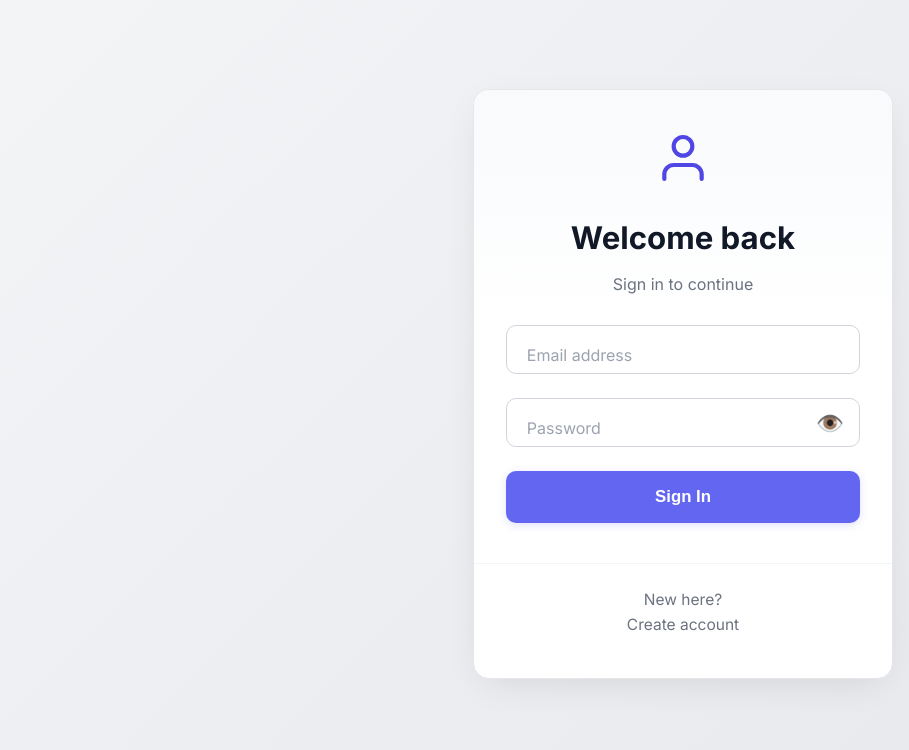
Scenario: Login Component › displays error on login failure
Type "test@example.com" into the field labelled "Email address" at (683, 350), box [506,326,860,374]
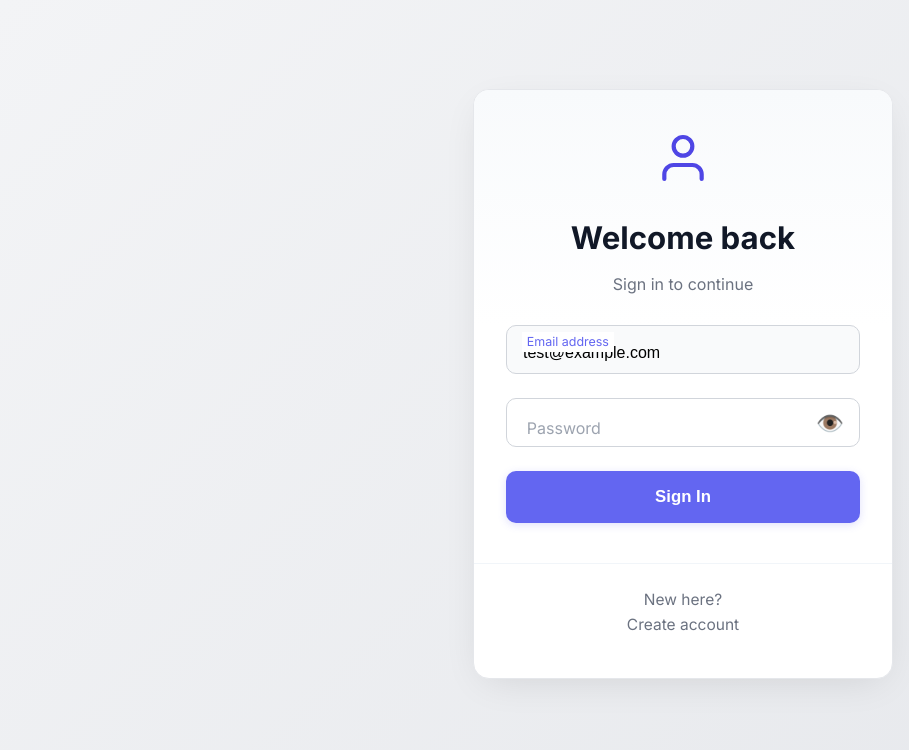
Type "password123" into the password field labelled "Password" at (683, 423), box [506,398,860,447]
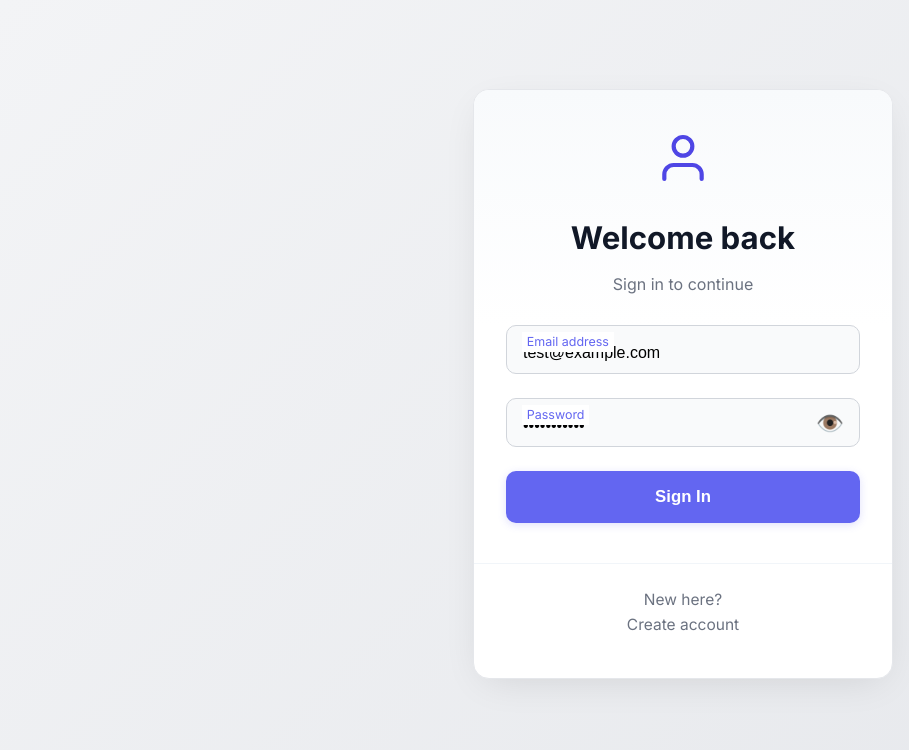
Click the button "Sign In" at (683, 497), box [506,471,860,523]
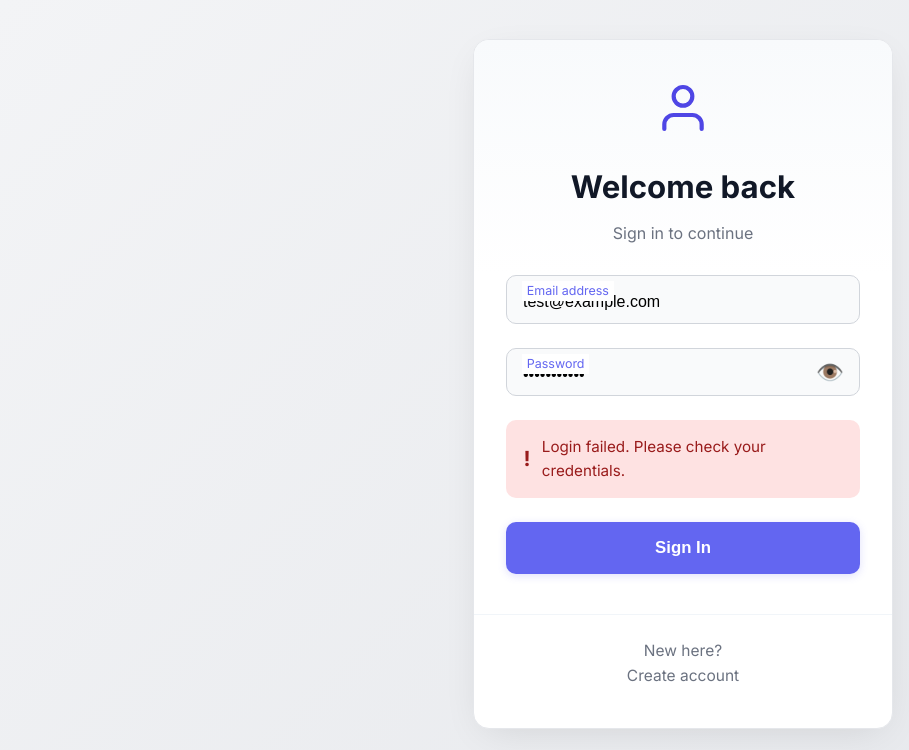
Expected: the text "Login failed. Please check your credentials." is shown, [542,437,766,480]
